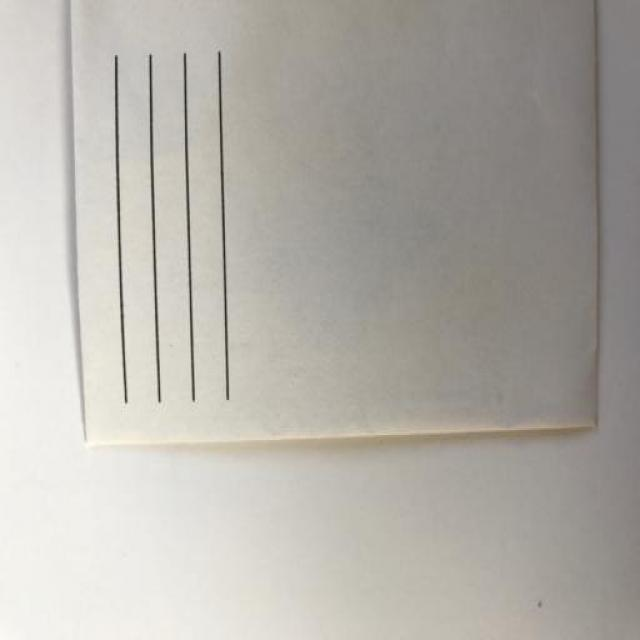paper: (58, 9, 609, 441)
